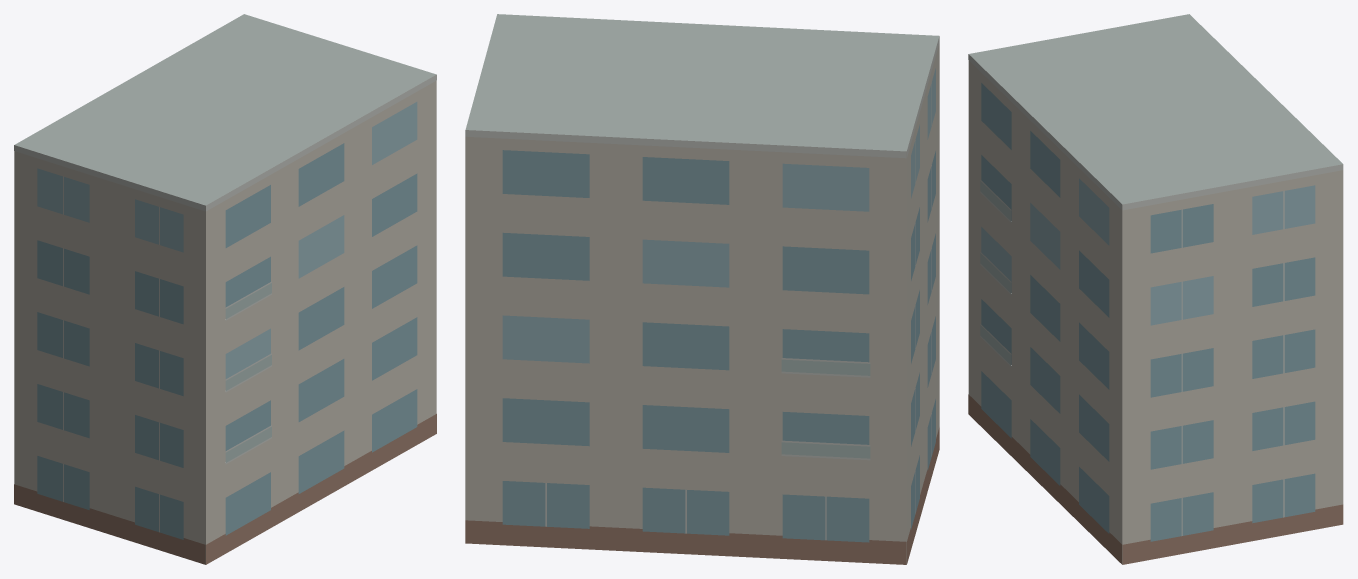
The model's file is survey-upis-32881042.glb.
3 views of the same model, side by side, from view 1: azimuth 30°, elevation 25°; view 2: azimuth 150°, elevation 25°; view 3: azimuth 270°, elevation 25° (orthographic). The views are drawn at different scales.
Visible parts, largest first — view 1: survey-upis-32881042.tmp; view 2: survey-upis-32881042.tmp; view 3: survey-upis-32881042.tmp.
Boxes of the visible parts, x1,y1,x2,y2 form: survey-upis-32881042.tmp: (14, 14, 436, 564); survey-upis-32881042.tmp: (465, 14, 939, 564); survey-upis-32881042.tmp: (968, 14, 1343, 564).
Size of the model in its own units: 16.85 by 14.85 by 14.01.
